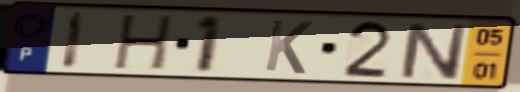1: (192, 13, 223, 76)
2: (341, 18, 396, 80)
H: (110, 13, 178, 74)
I: (58, 9, 89, 72)
K: (261, 17, 316, 76)
N: (398, 20, 469, 82)
